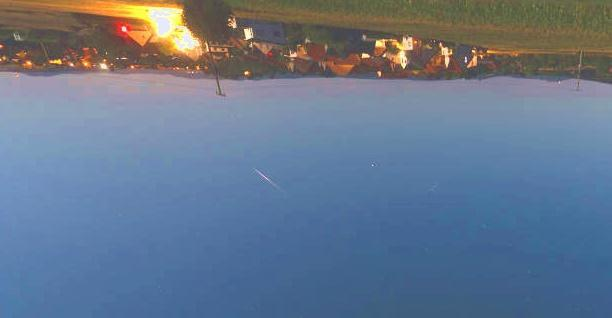meteorite: (239, 167, 293, 189)
